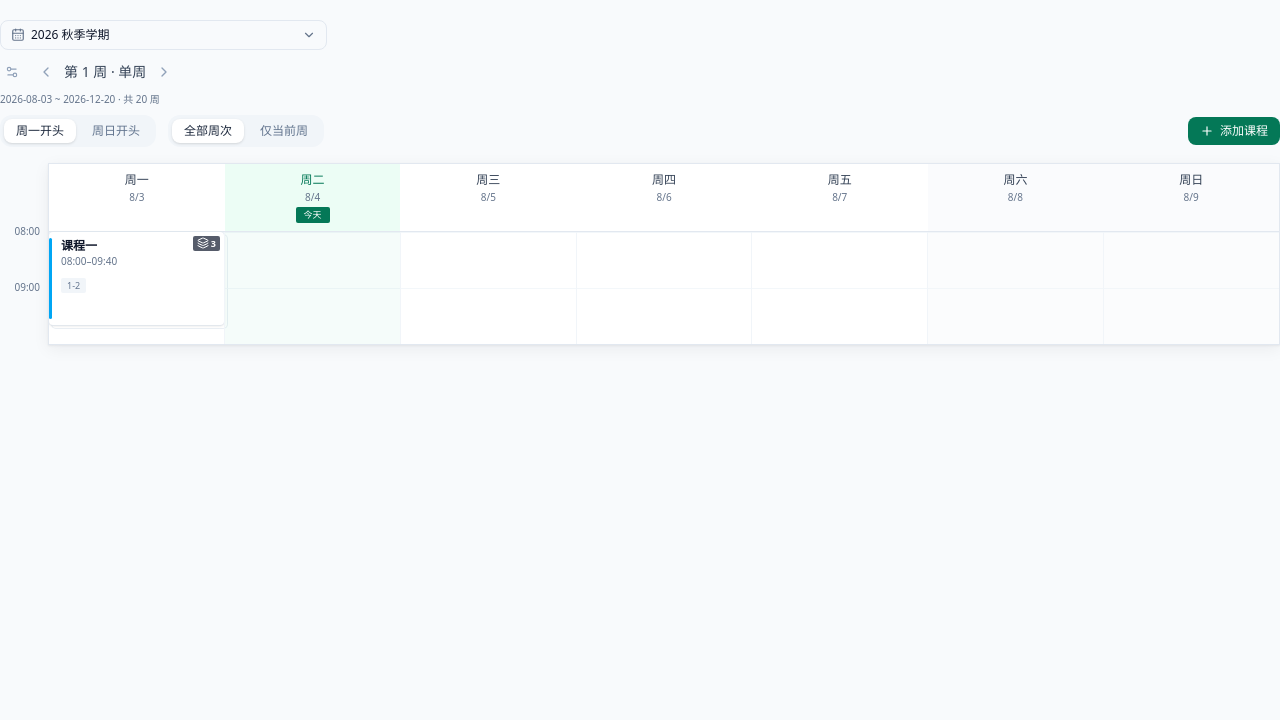
视图空态 › 三门同槽错周课程全部铺开
Click the button with aria-label "共 3 门".
click(136, 278)  # box 49,232 -> 224,325
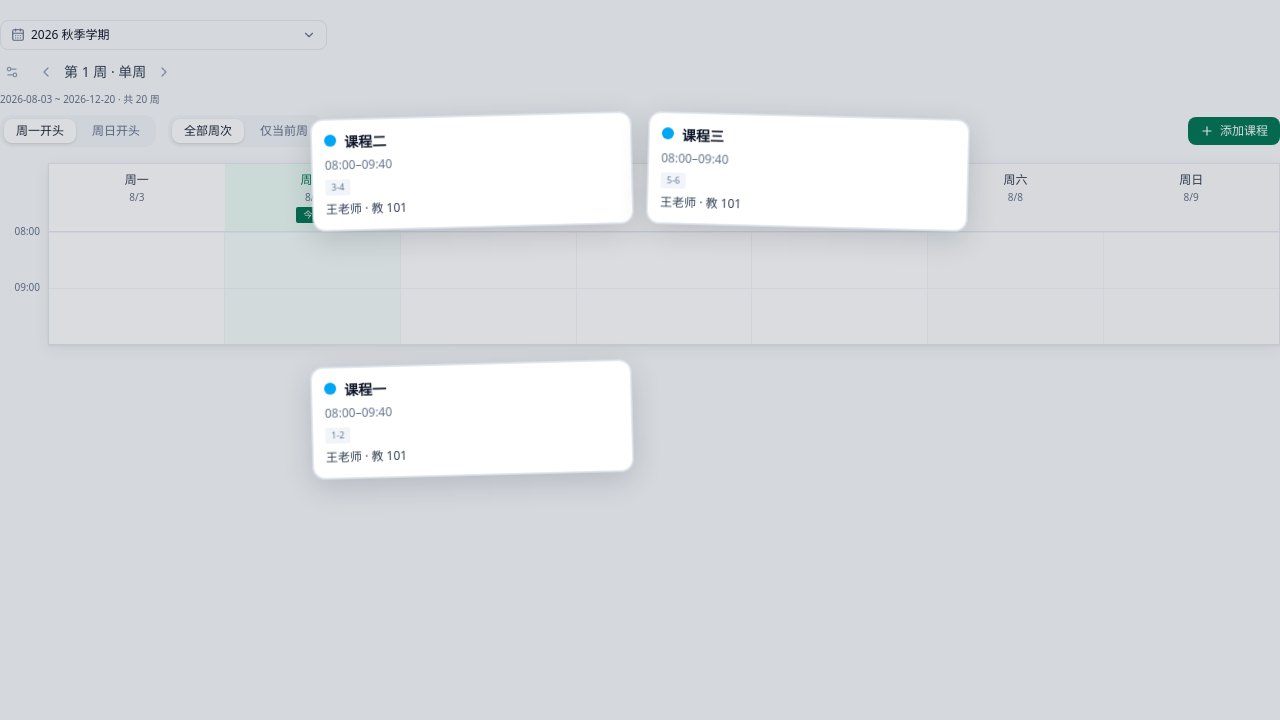
Result: the button with test id "spread-card-r1" is shown at 311,360 -> 633,479
Result: the button with test id "spread-card-r2" is shown at 311,112 -> 633,231
Result: the button with test id "spread-card-r3" is shown at 647,112 -> 969,231
